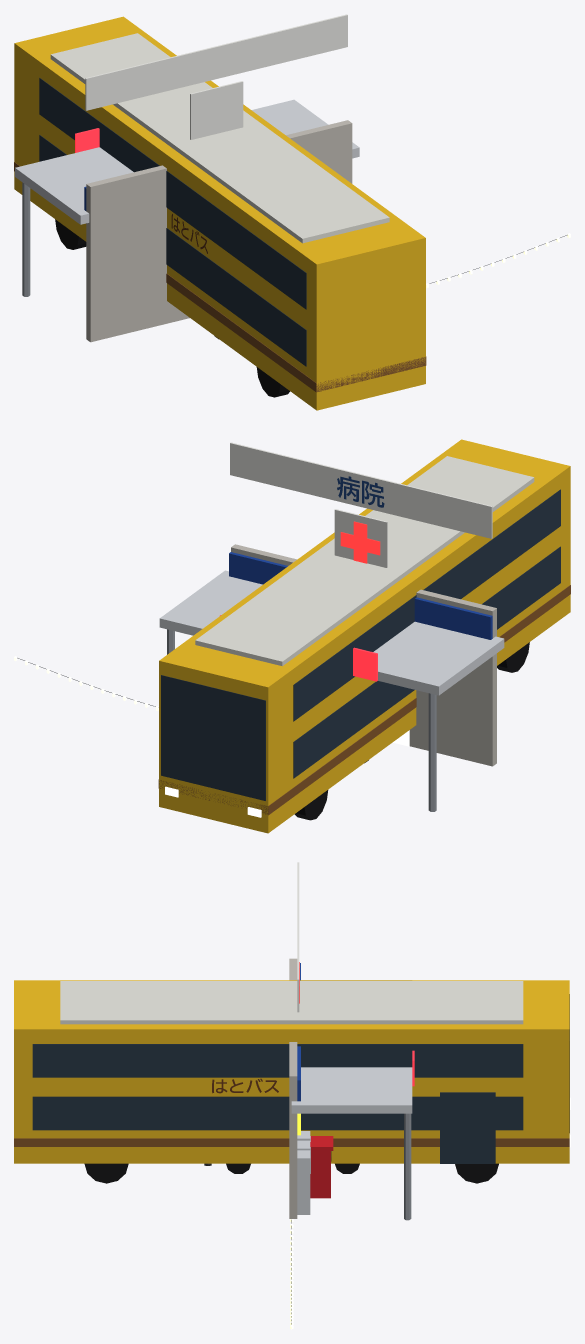
File: city9.glb
3 views of the same model, one above another, from view 1: azimuth 30°, elevation 25°; view 2: azimuth 150°, elevation 25°; view 3: azimuth 270°, elevation 25° (orthographic). The views are drawn at different scales.
Parts seen in each view (by area): view 1: C9_HatoBus, C9_Hospital, C9_Bank; view 2: C9_HatoBus, C9_Hospital, C9_Bank; view 3: C9_HatoBus, C9_Hospital, C9_Bank, C9_PostOffice.
Boxes of the visible parts, x1,y1,x2,y2 form: C9_HatoBus: [14, 16, 426, 410]; C9_Hospital: [15, 14, 359, 296]; C9_Bank: [84, 120, 352, 342]; C9_HatoBus: [158, 439, 570, 833]; C9_Hospital: [159, 442, 504, 811]; C9_Bank: [229, 544, 496, 766]; C9_HatoBus: [14, 980, 570, 1183]; C9_Hospital: [291, 862, 414, 1220]; C9_Bank: [289, 958, 310, 1218]; C9_PostOffice: [310, 1136, 333, 1198].
Bounding box in the file's own units: 11.24 × 6.36 × 12.03.
